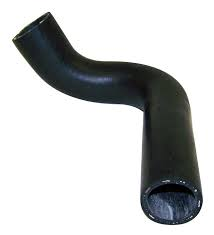radiator_hose: (13, 12, 200, 222)
